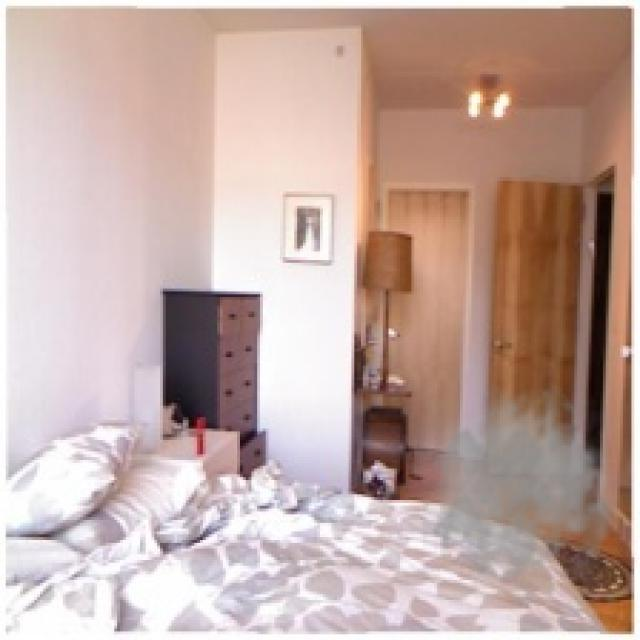Smoke: (422, 381, 628, 588)
